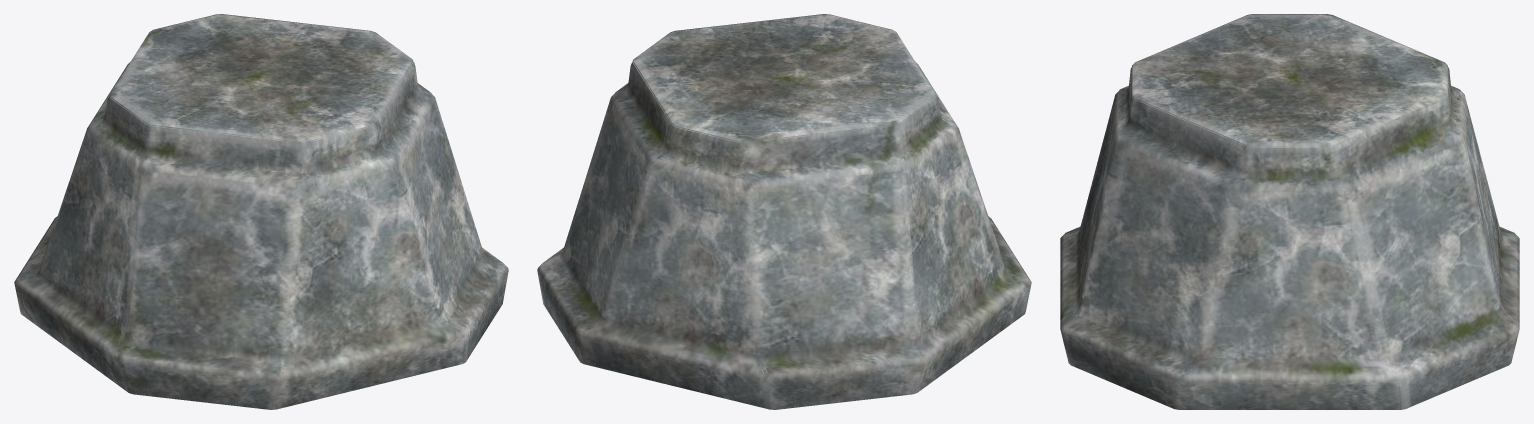
File: SM_Statue_Stand.glb
The picture shows the model from 3 angles, left to right: view 1: azimuth 30°, elevation 25°; view 2: azimuth 150°, elevation 25°; view 3: azimuth 270°, elevation 25°; orthographic projection. The views are drawn at different scales.
Visible parts, largest first — view 1: SM_Statue_Stand; view 2: SM_Statue_Stand; view 3: SM_Statue_Stand.
Part boxes in pixels (box(x1,y1,x2,y2)): SM_Statue_Stand: box(14, 14, 508, 409); SM_Statue_Stand: box(537, 14, 1031, 409); SM_Statue_Stand: box(1060, 14, 1519, 409).
Bounding box in the file's own units: 0.9106 × 0.5198 × 0.9106.
Materials: 1 (1 with a texture image).
